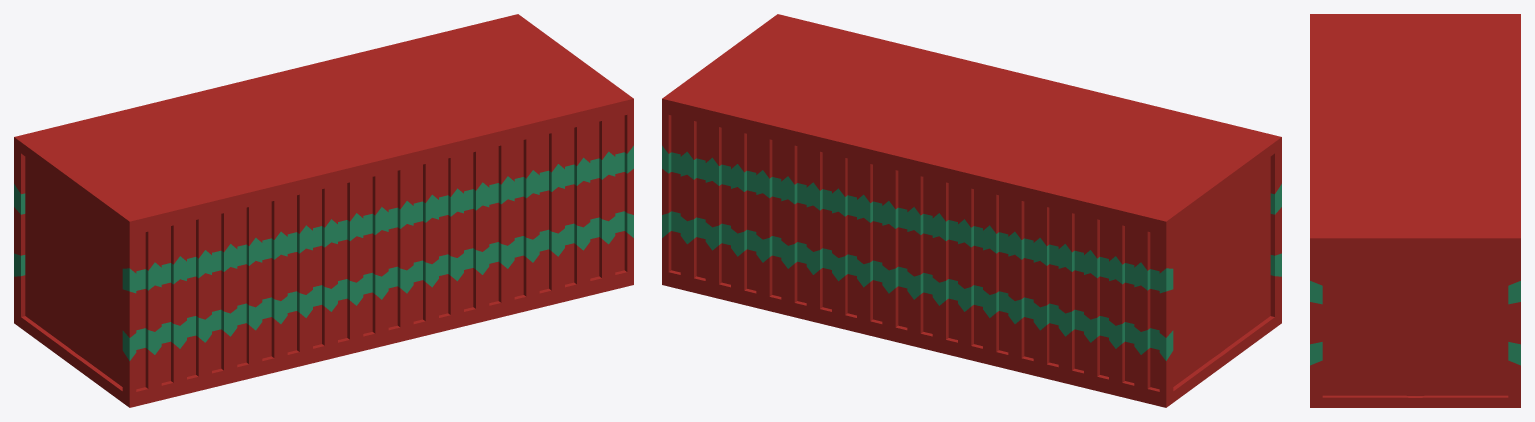
File: LCargoModel01.fbx
The picture shows the model from 3 angles, left to right: view 1: azimuth 30°, elevation 25°; view 2: azimuth 150°, elevation 25°; view 3: azimuth 270°, elevation 25°; orthographic projection. The views are drawn at different scales.
Visible parts, largest first — view 1: LCargoModel01; view 2: LCargoModel01; view 3: LCargoModel01.
Part boxes in pixels (bbox=[...]): LCargoModel01: bbox=[14, 14, 633, 407]; LCargoModel01: bbox=[662, 14, 1281, 407]; LCargoModel01: bbox=[1310, 14, 1520, 407].
Bounding box in the file's own units: 723 × 255 × 288.
